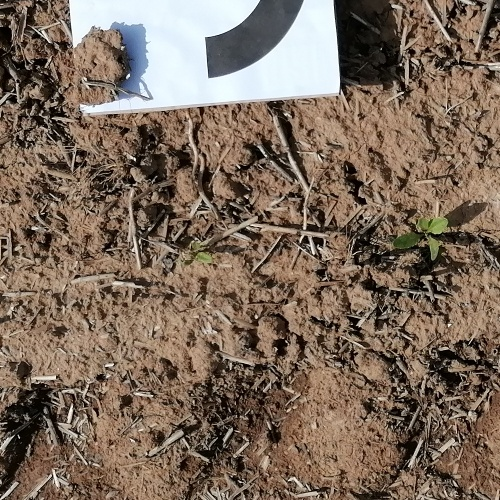beet: (393, 216, 448, 259), (182, 245, 213, 267)
